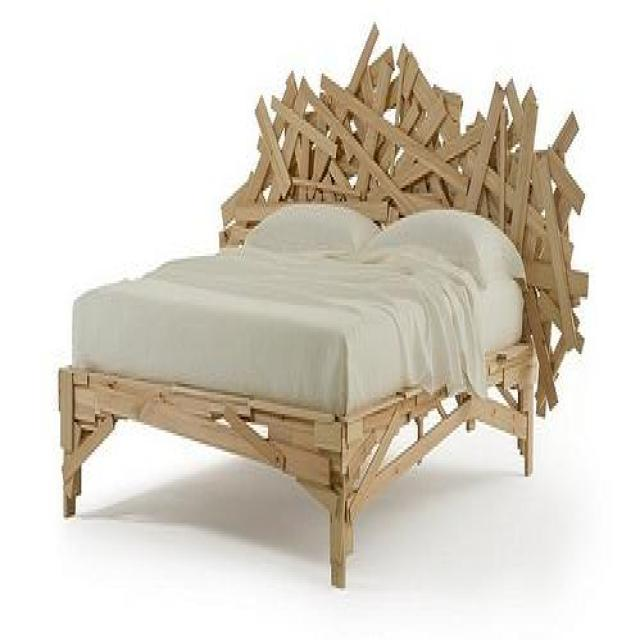bed: (57, 14, 591, 595)
